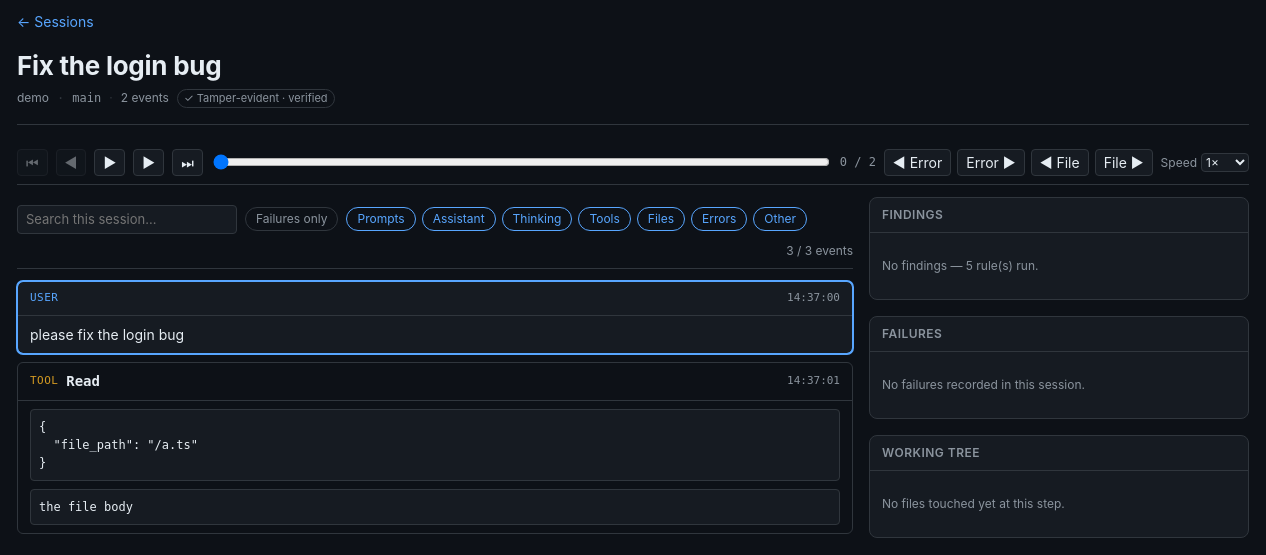
Test: SessionDetailPage › filters the timeline by kind chip
Check: the text "please fix the login bug" is shown, box x1=30 y1=326 x2=184 y2=342
Click the button "Tools".
click(605, 219)  # box x1=578 y1=207 x2=631 y2=231
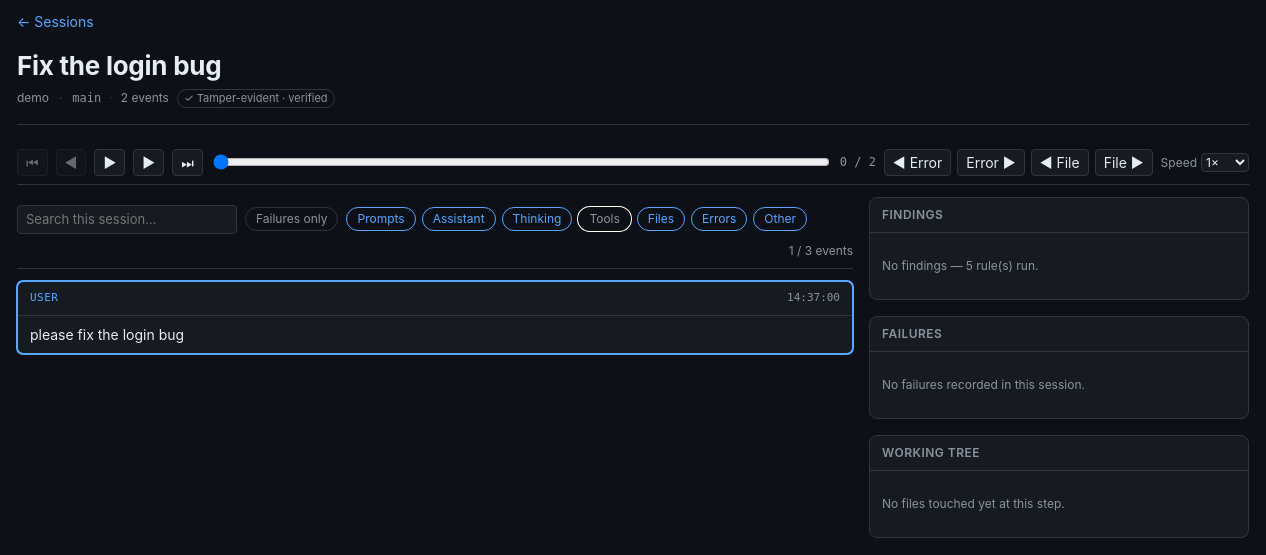
Check: the text "please fix the login bug" is shown, box x1=30 y1=326 x2=184 y2=342
Check: the text "Read" is gone
